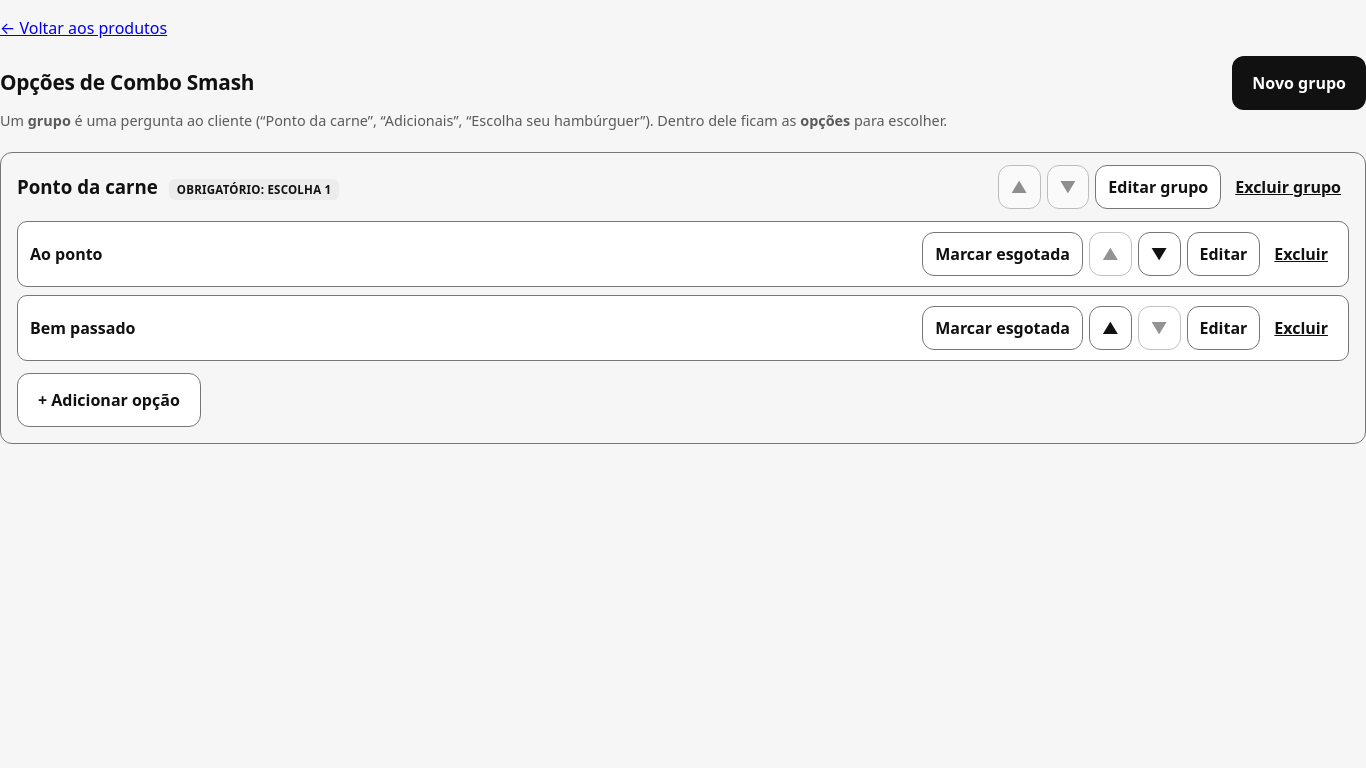
it: Admin: opções do produto › edita um grupo já existente
Click the button with aria-label "Editar grupo Ponto da carne" at coordinates (1158, 187), box [1095,165,1221,209]
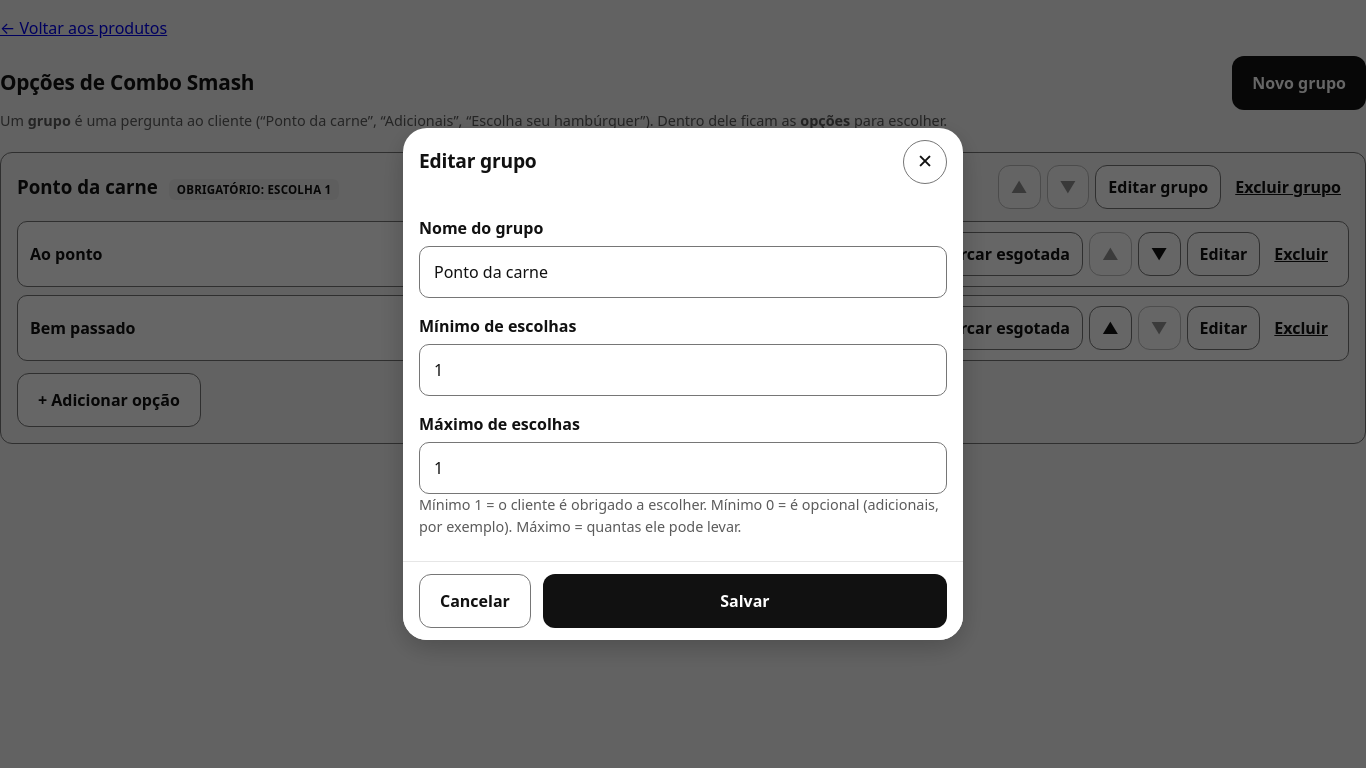
Expected: the field labelled "Nome do grupo" holds "Ponto da carne"
Type "Ponto" into the field labelled "Nome do grupo" at coordinates (683, 272), box [419,246,947,298]
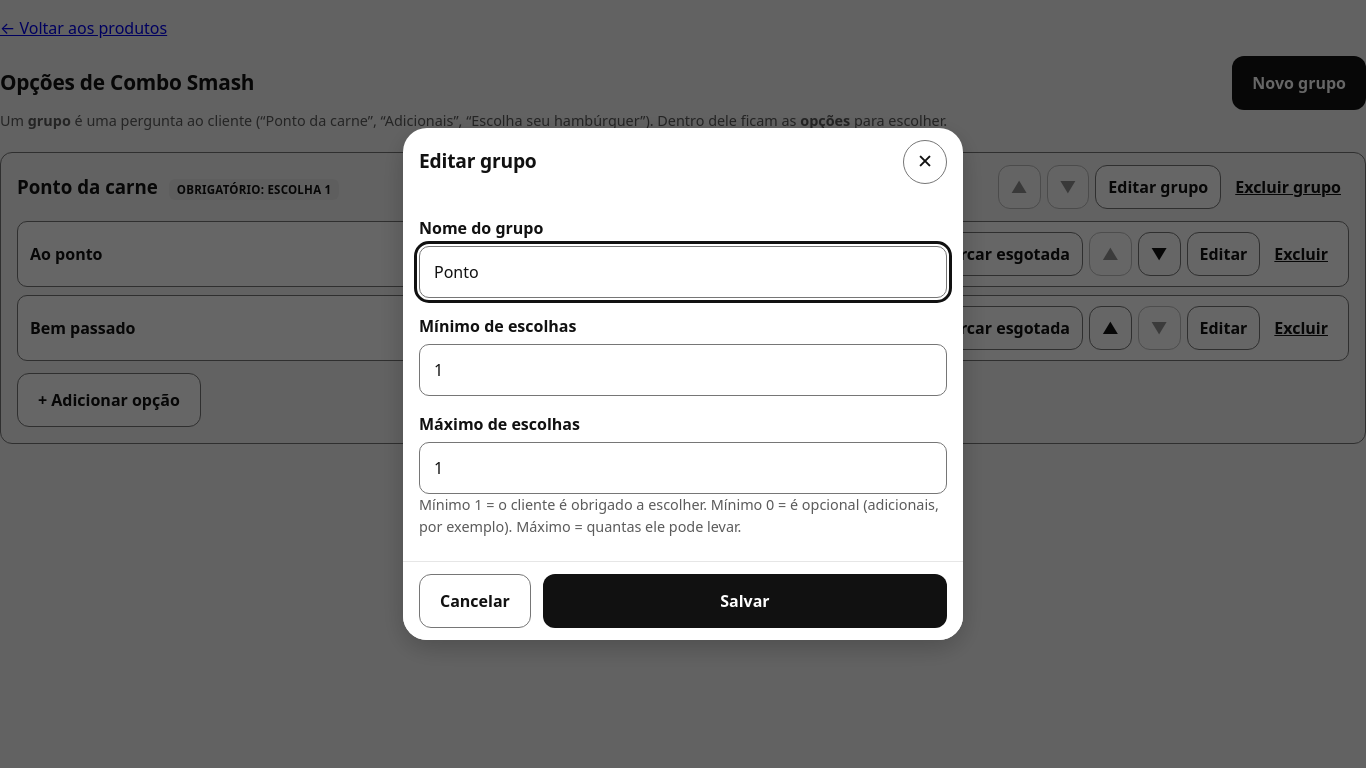
Click the button "Salvar" at coordinates (745, 601), box [543,574,947,628]
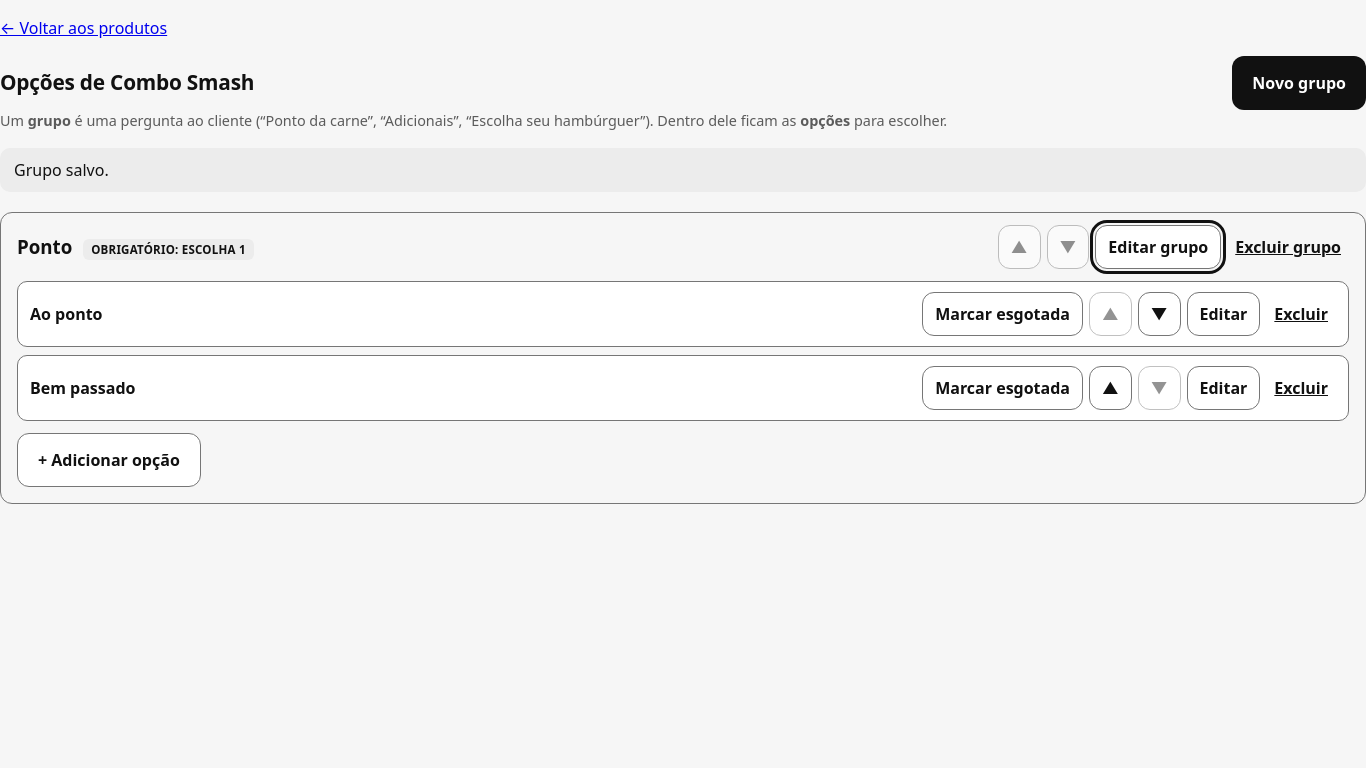
Expected: the text "Grupo salvo." is shown, [0,148,1365,192]
